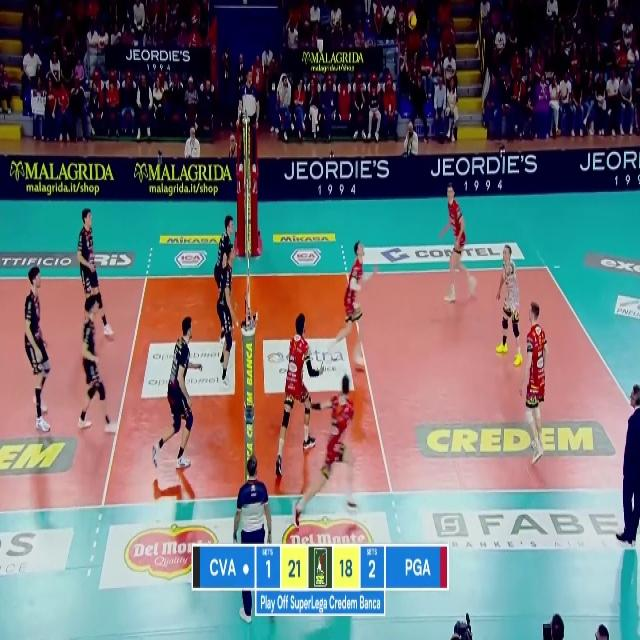volleyball court: (1, 266, 637, 510)
